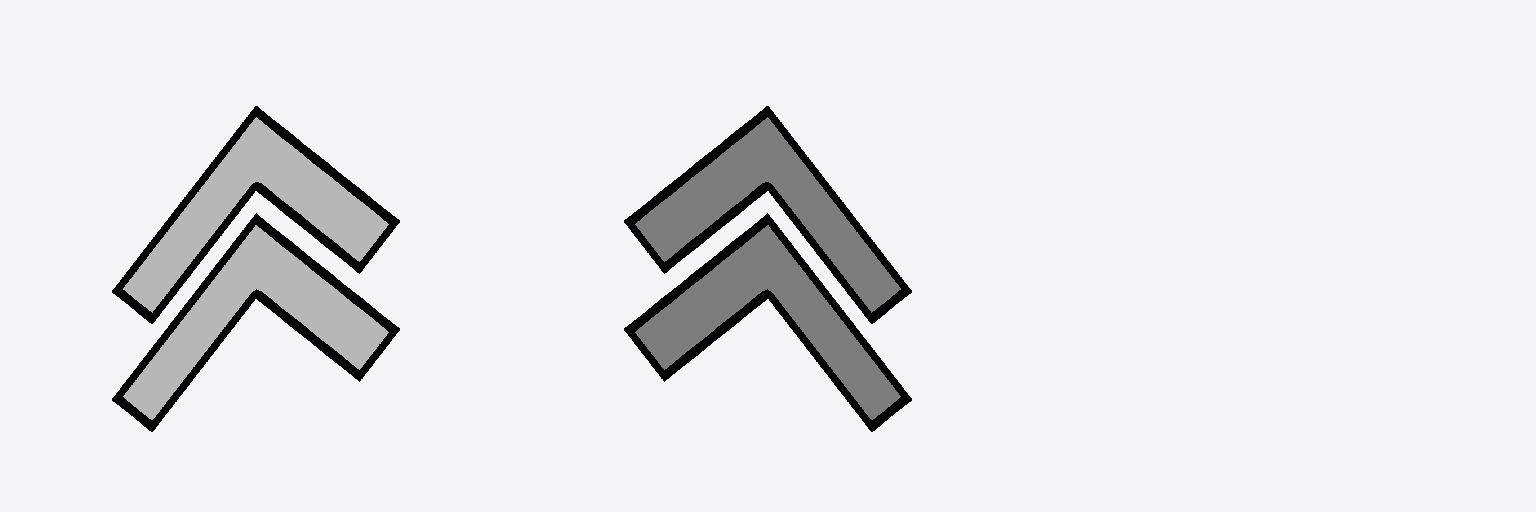
3 views of the same model, side by side, from view 1: azimuth 30°, elevation 25°; view 2: azimuth 150°, elevation 25°; view 3: azimuth 270°, elevation 25° (orthographic).
Parts seen in each view (by area): view 1: 平面; view 2: 平面; view 3: none.
Boxes of the visible parts, <box> form: 平面: <box>112,106,399,431</box>; 平面: <box>624,106,911,431</box>.
Bounding box in the file's own units: 1.3 × 1.3 × 0.
1 materials, 1 textured.